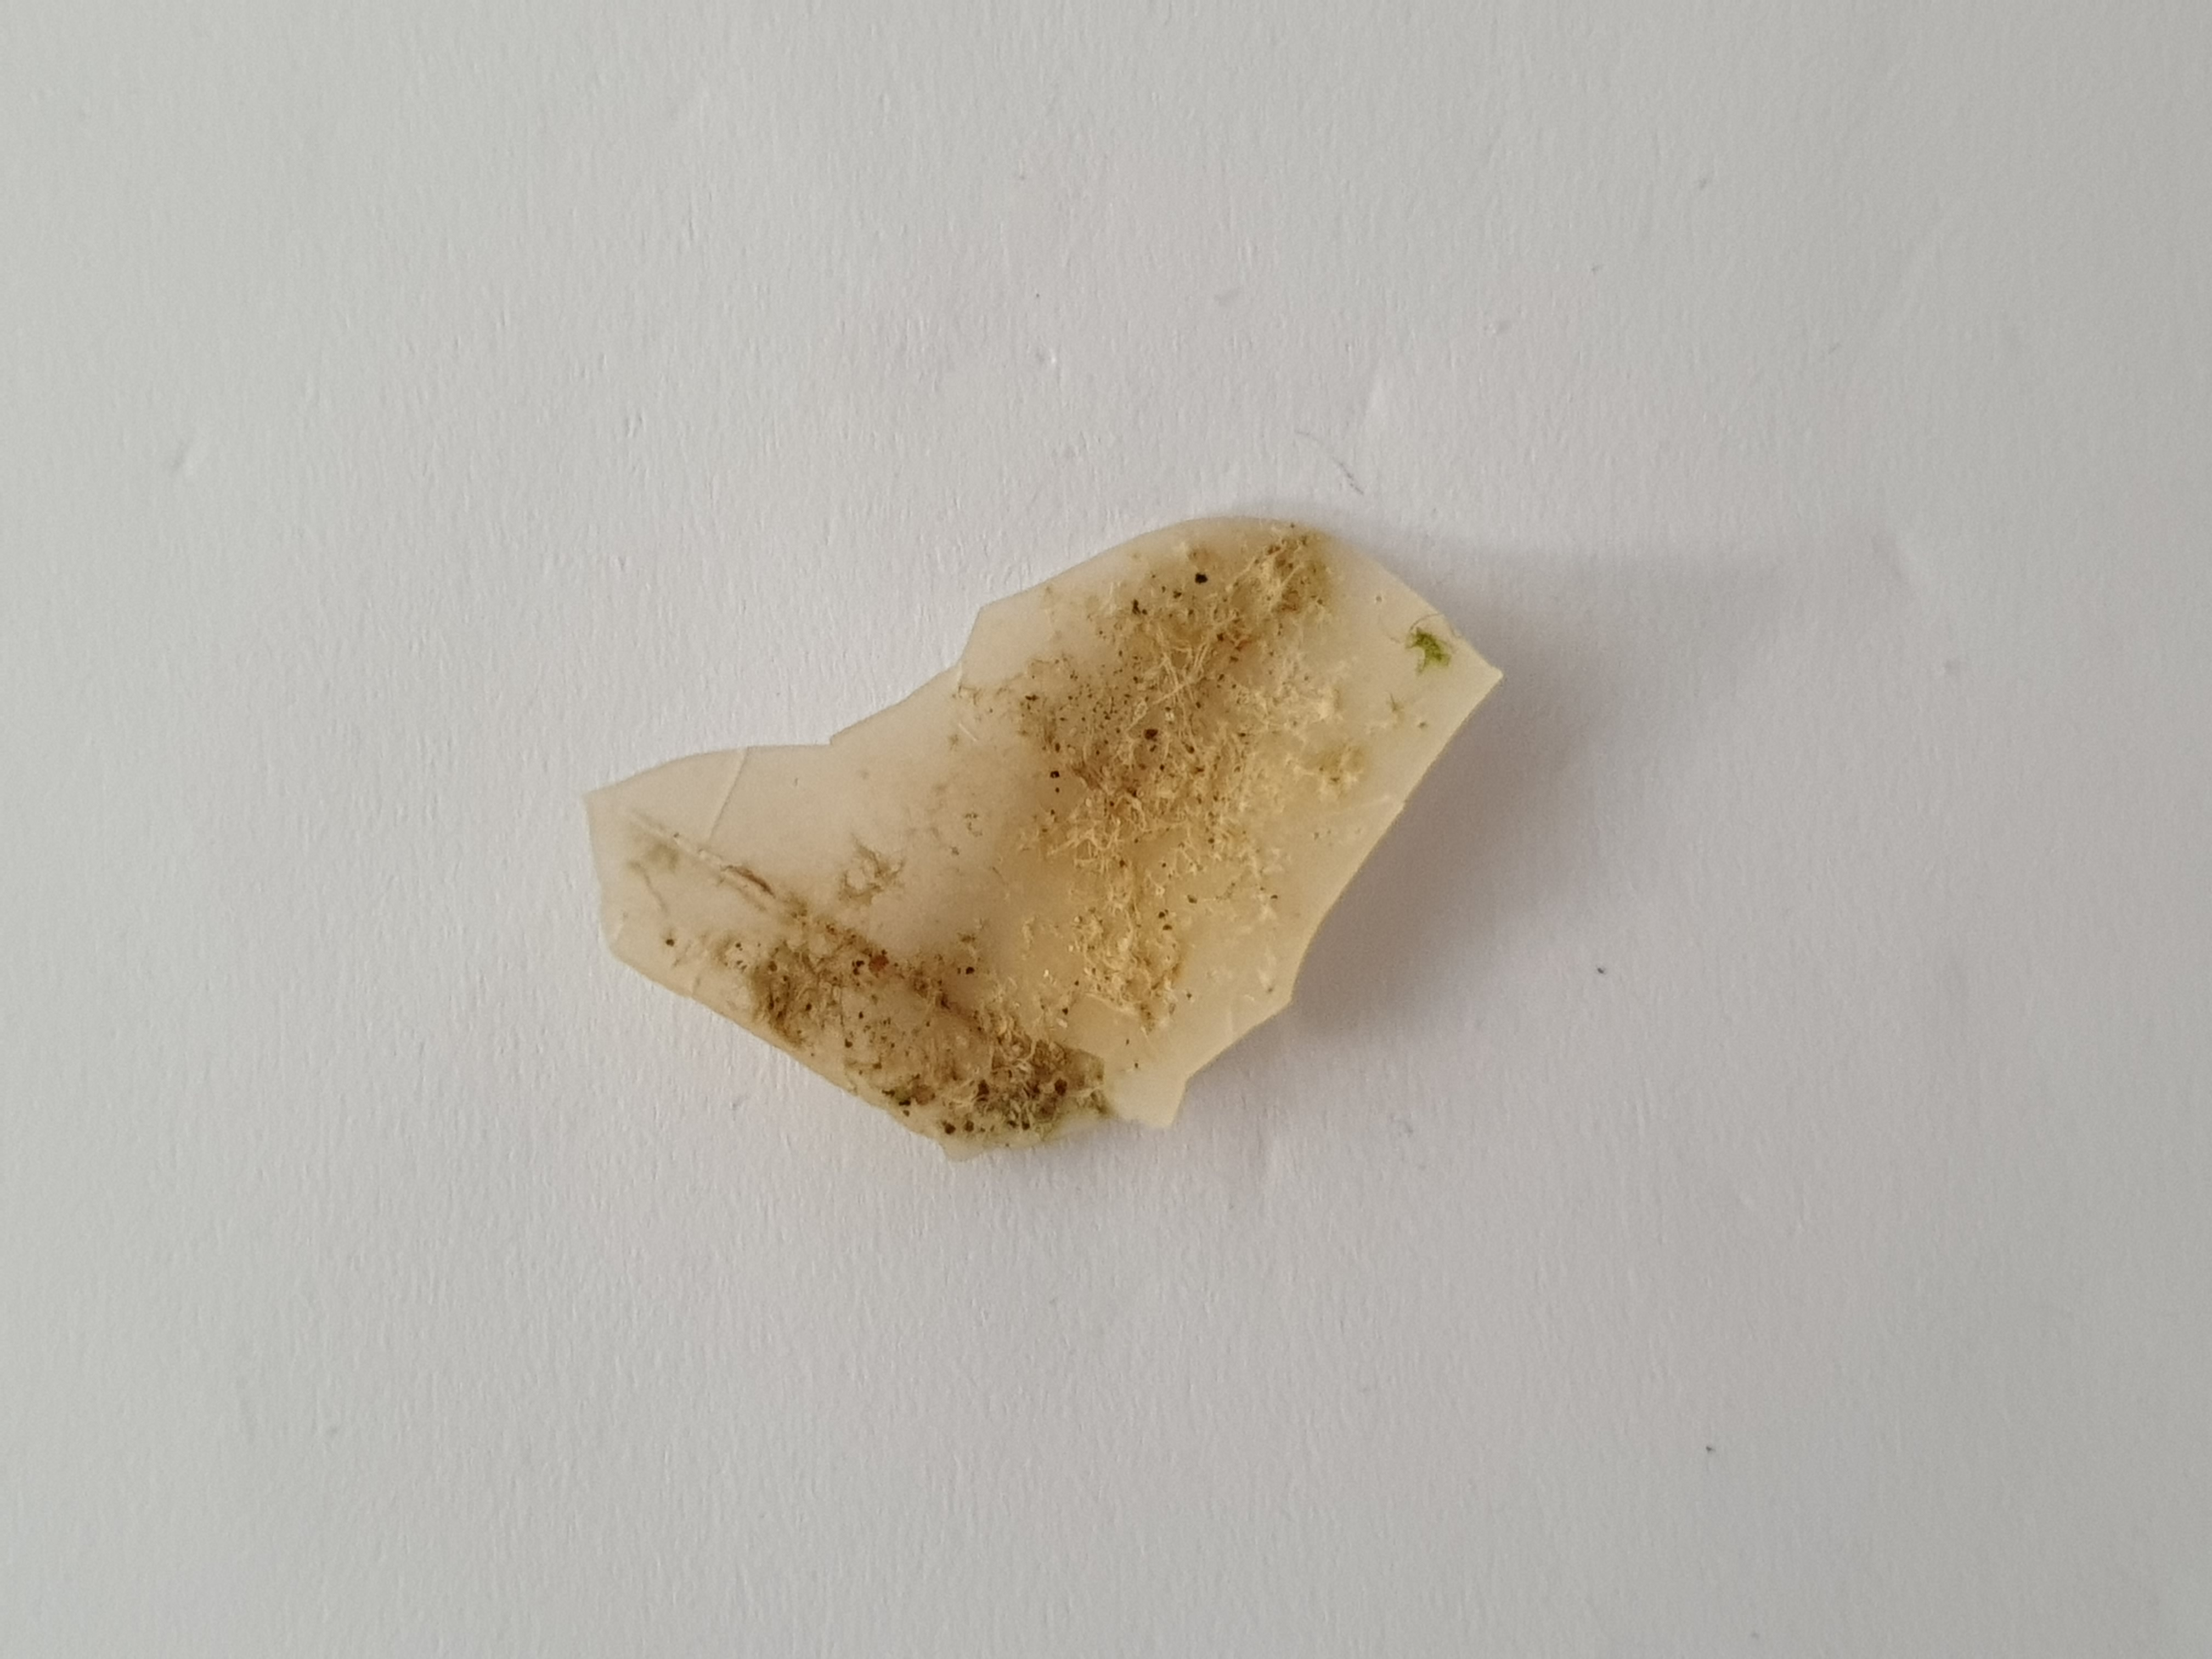plastic: (552, 477, 1505, 1166)
